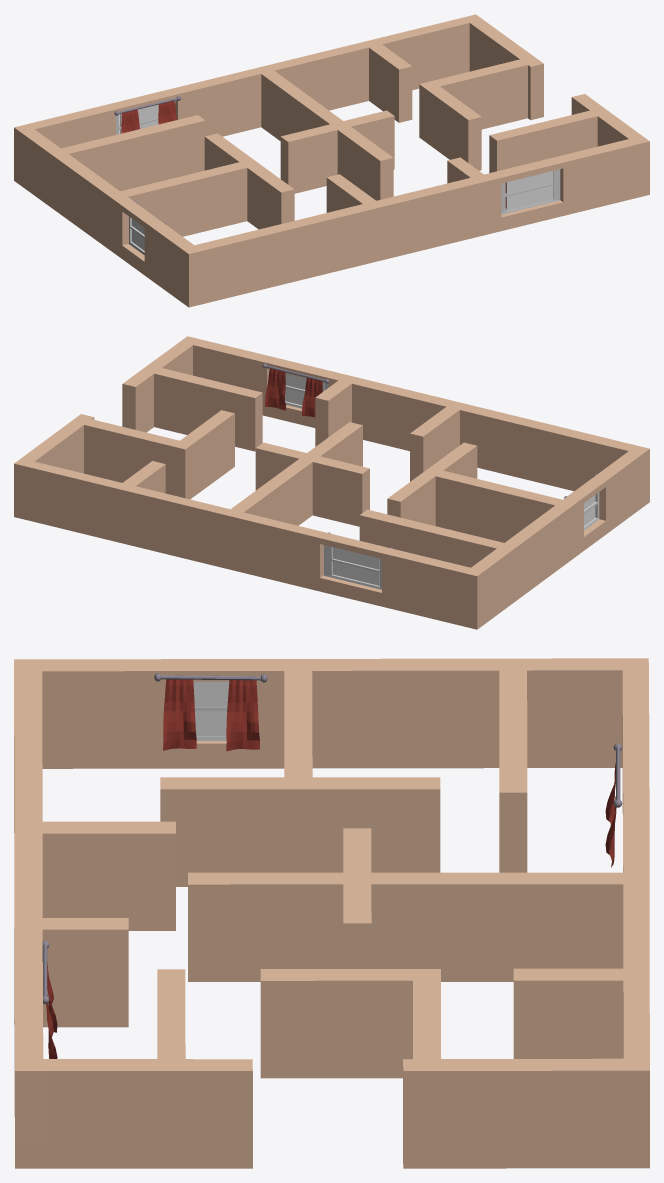
Rendered from Level 11.fbx.
3 views of the same model, one above another, from view 1: azimuth 30°, elevation 25°; view 2: azimuth 150°, elevation 25°; view 3: azimuth 270°, elevation 25° (orthographic). The views are drawn at different scales.
Parts seen in each view (by area): view 1: polySurface76, pasted__wind1, polySurface50, pasted__pasted__clowt1; view 2: polySurface76, pasted__wind1, polySurface50, pasted__pasted__clowt1; view 3: polySurface76, pasted__pasted__clowt1, polySurface50, pasted__wind1.
Part boxes in pixels (bbox=[...]): polySurface76: bbox=[14, 14, 649, 307]; pasted__wind1: bbox=[501, 169, 560, 214]; polySurface50: bbox=[114, 96, 181, 134]; pasted__pasted__clowt1: bbox=[128, 201, 166, 254]; polySurface76: bbox=[14, 336, 649, 629]; pasted__wind1: bbox=[262, 363, 329, 417]; polySurface50: bbox=[324, 532, 392, 589]; pasted__pasted__clowt1: bbox=[564, 474, 599, 530]; polySurface76: bbox=[14, 658, 649, 1168]; pasted__pasted__clowt1: bbox=[154, 673, 267, 751]; polySurface50: bbox=[605, 743, 622, 867]; pasted__wind1: bbox=[42, 940, 57, 1058].
Bounding box in the file's own units: 154 × 16.93 × 99.98.
